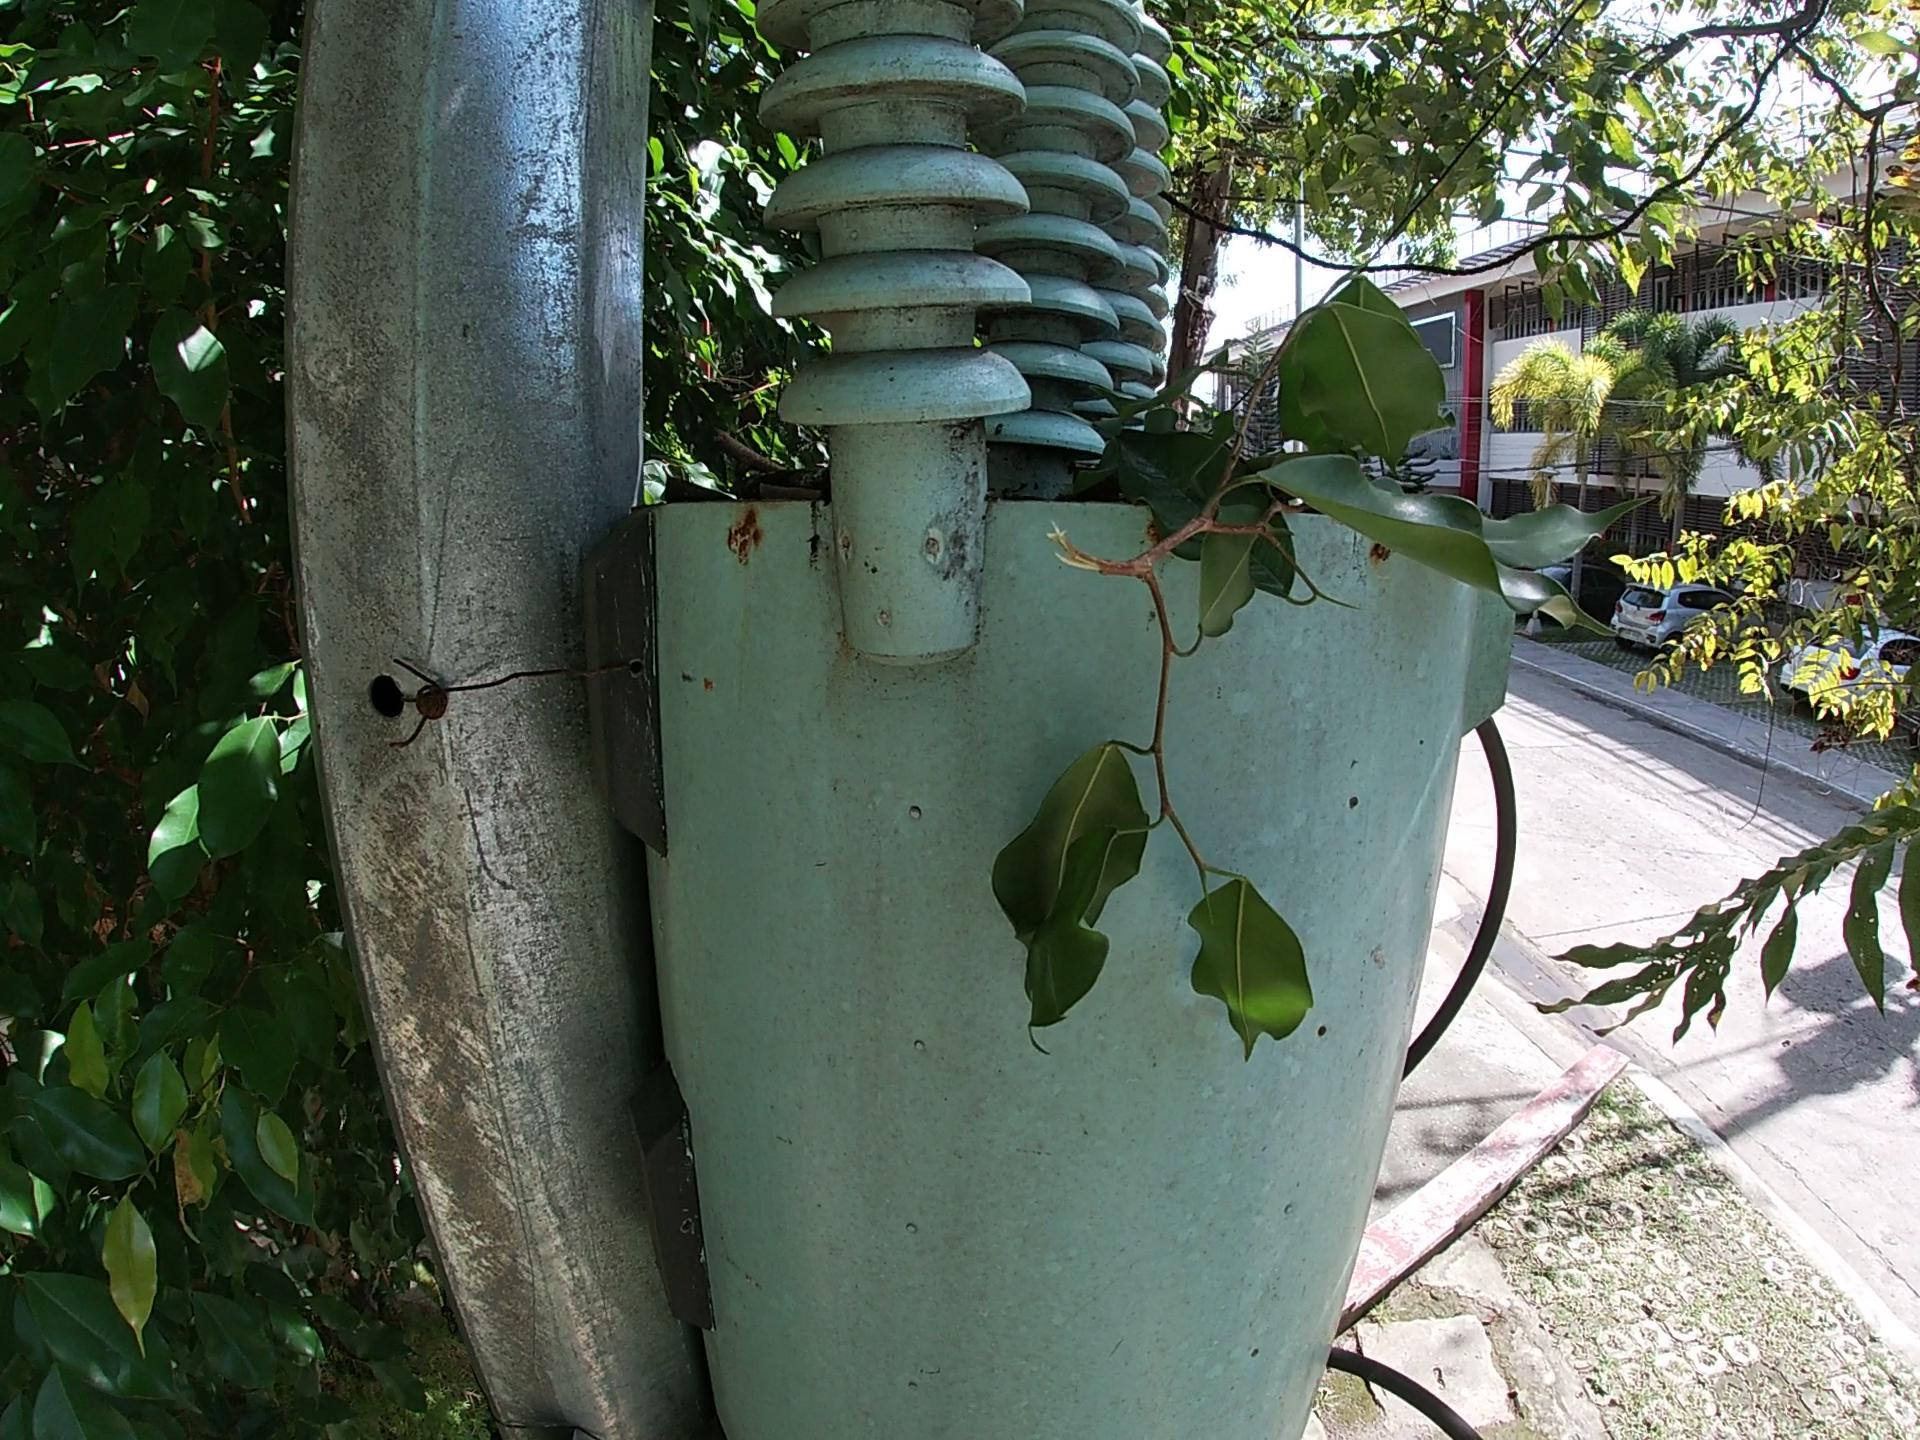branch with leaves: (1019, 234, 1677, 1091)
leaf: (659, 466, 721, 501)
tree branch: (717, 424, 830, 475)
